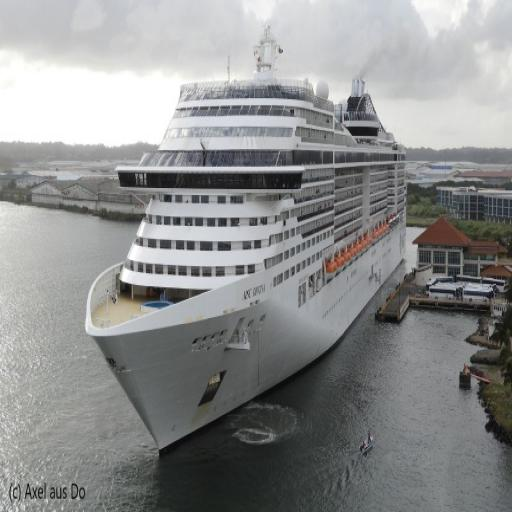cruises: (83, 33, 412, 461)
